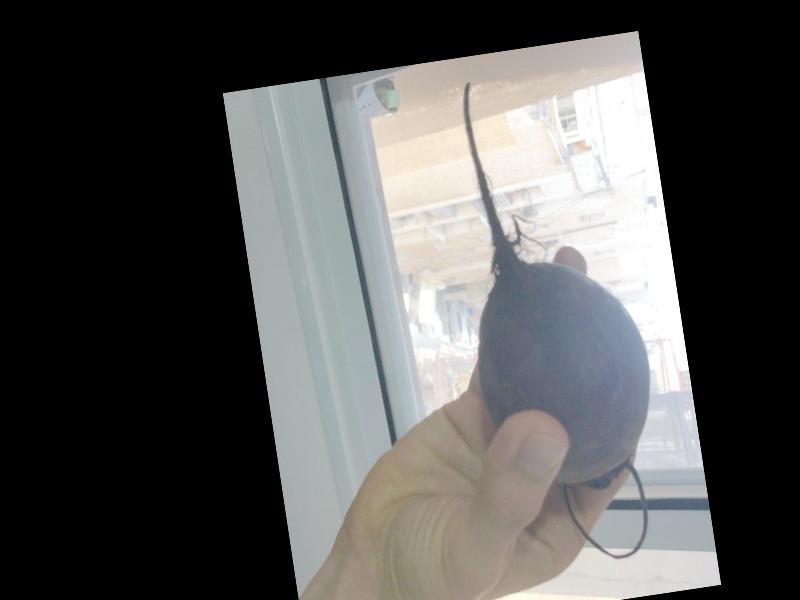Beet: (436, 60, 676, 573)
